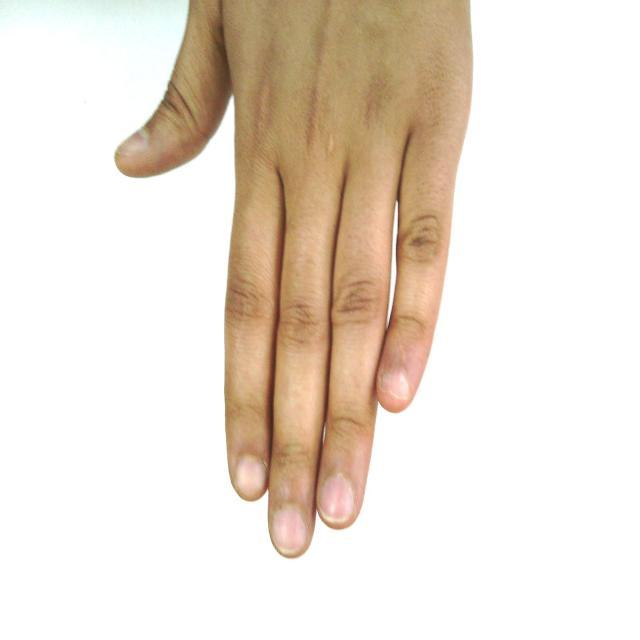Fingernail: (321, 476, 352, 521), (274, 508, 307, 549), (237, 459, 265, 495), (383, 371, 410, 399), (118, 132, 145, 156)
